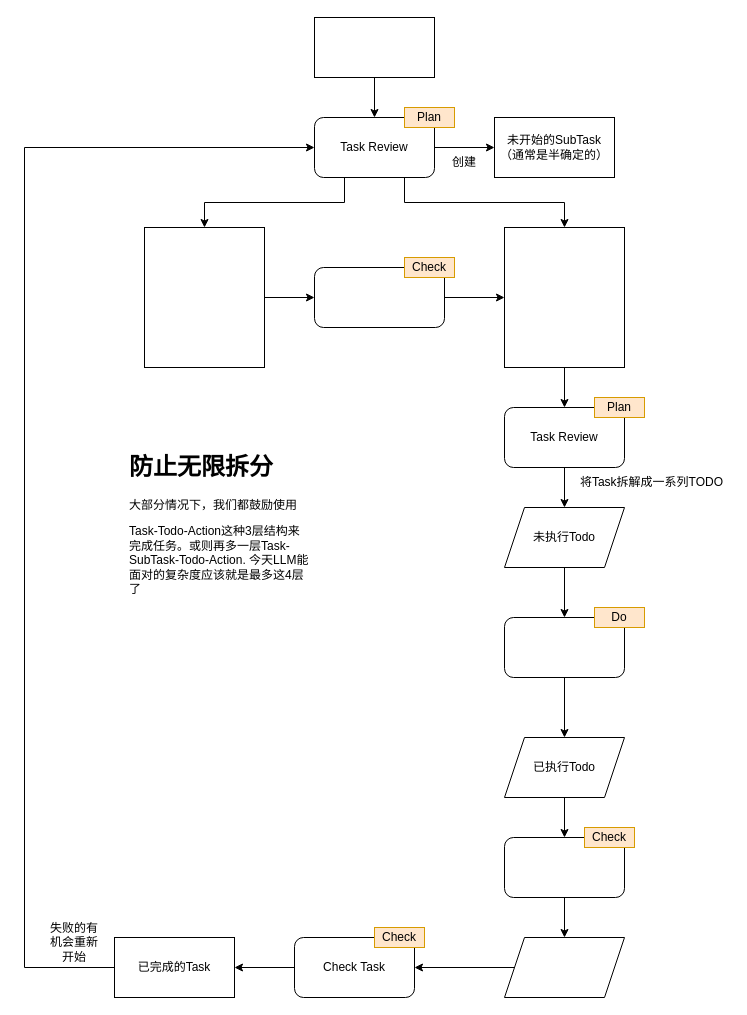
The diagram is 747 pixels wide and 1015 high, and some of its shapes have lost their labels. Each missing label, with the box of its shape:
Check Todo: (504, 836, 624, 898)
Do Todo: (504, 616, 624, 678)
Quick Review: (314, 266, 444, 328)
半确定的Task： ASSIGNED 确定的执行人 不确定的执行时间（和条件有关）: (144, 226, 264, 368)
已完成TODO: (504, 936, 624, 998)
未开始的Task: (314, 16, 434, 78)
确定的Task： 确定的执行时间（在这之前和之后都不会执行）， 确定的执行人: (504, 226, 624, 368)
